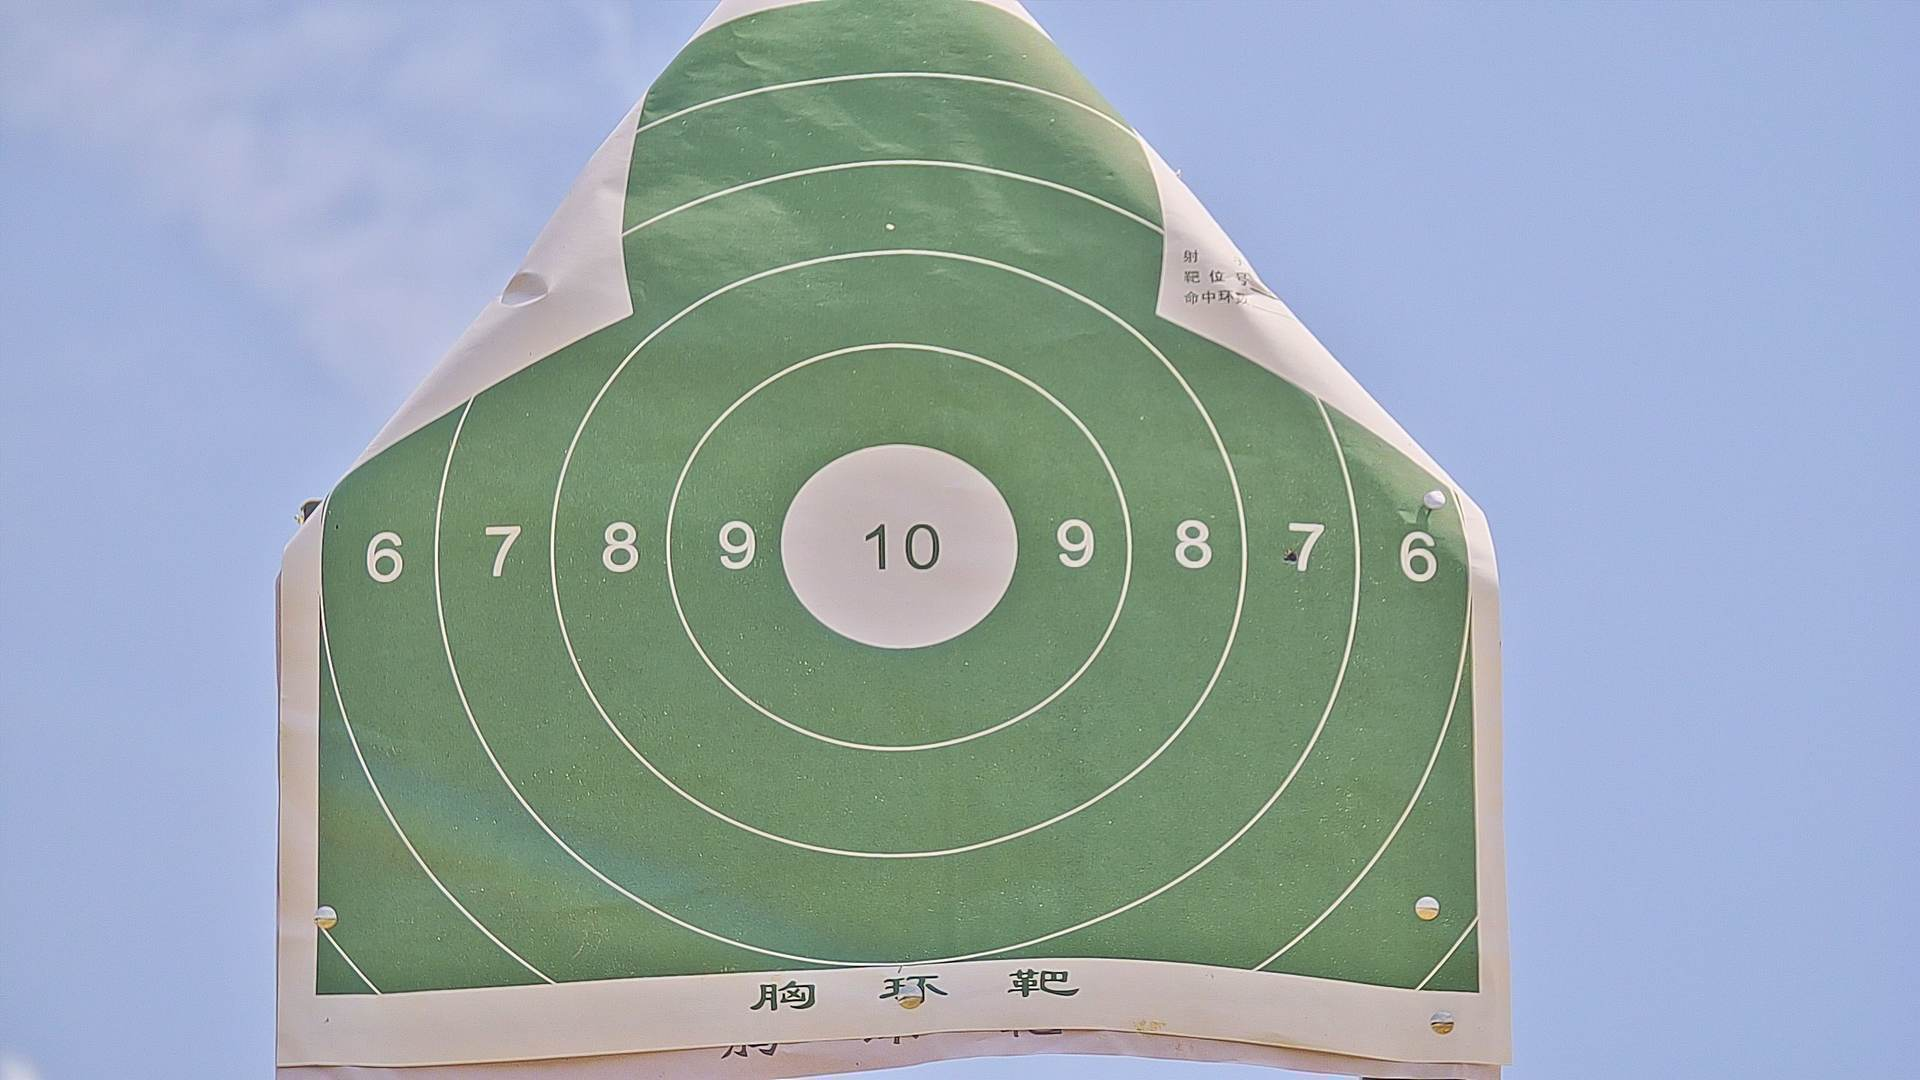hole: (1280, 545, 1303, 571)
kernel: (887, 542, 899, 547)
target: (319, 1, 1480, 996)
ten: (773, 440, 1026, 655)
